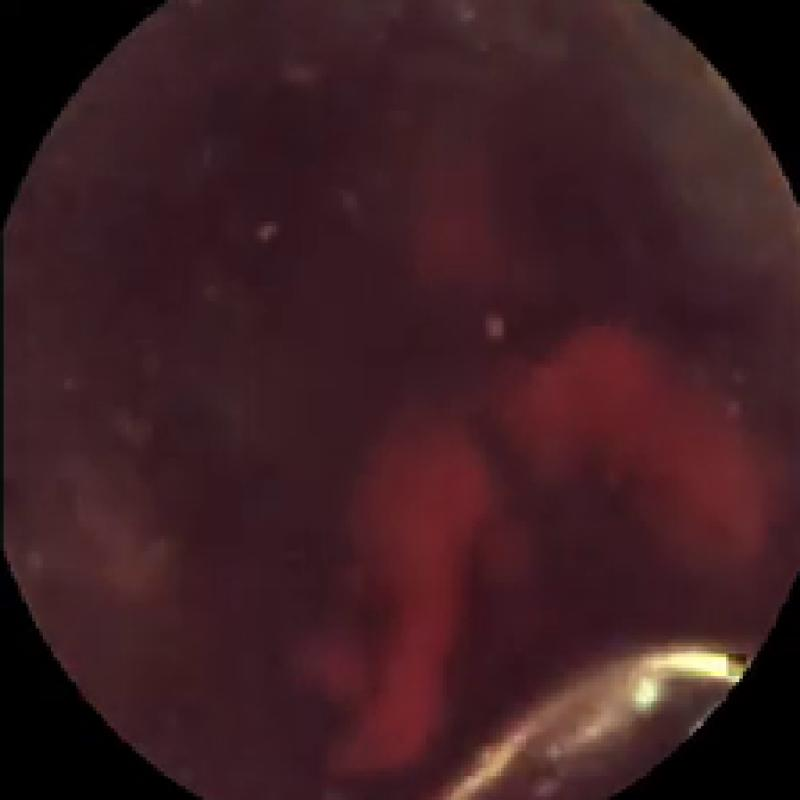bleeding: (286, 379, 511, 780), (517, 326, 778, 578), (404, 153, 500, 293)
